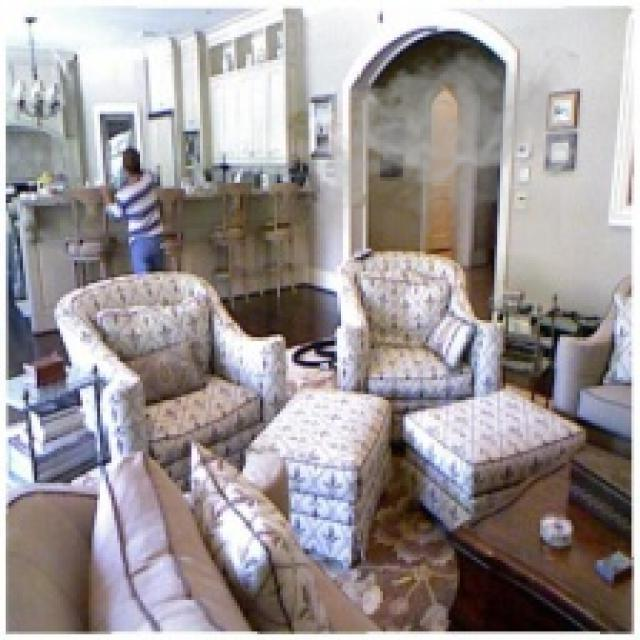Smoke: (303, 40, 580, 249)
